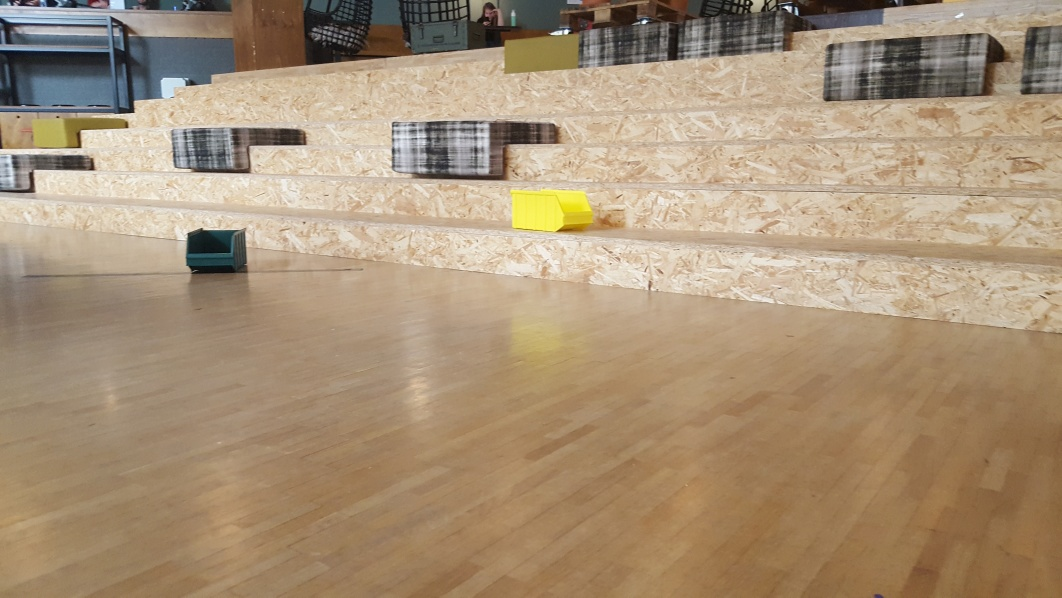tray: (506, 186, 596, 235), (183, 227, 252, 272)
